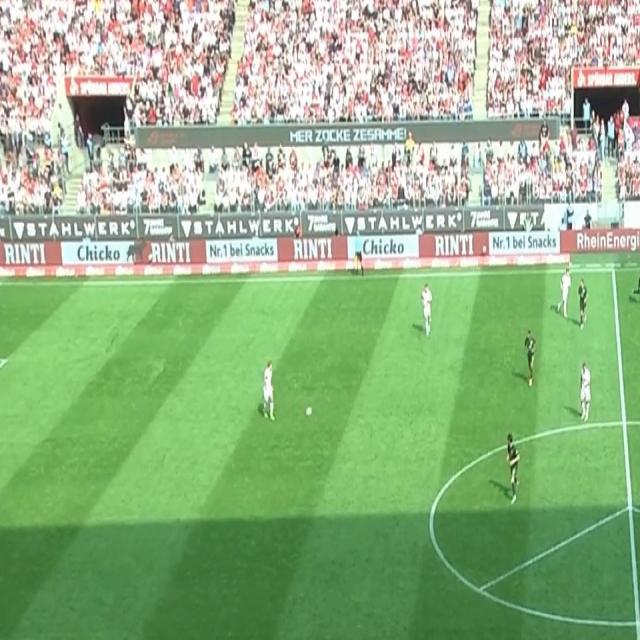ball: (305, 405, 313, 417)
